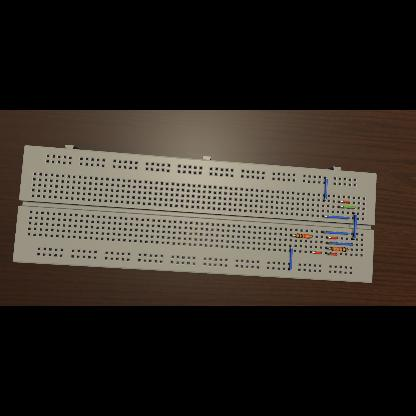breadboard: (13, 145, 377, 283)
resistor: (331, 247, 347, 252), (296, 233, 310, 238)
wire: (351, 212, 357, 240), (322, 177, 328, 201), (322, 216, 350, 220), (326, 242, 354, 246), (288, 246, 292, 270), (321, 232, 349, 235), (326, 252, 338, 256), (338, 206, 356, 208), (310, 251, 322, 254), (338, 201, 350, 203), (326, 237, 338, 239), (326, 248, 332, 250), (290, 235, 296, 236), (311, 236, 313, 238), (348, 249, 349, 250)
